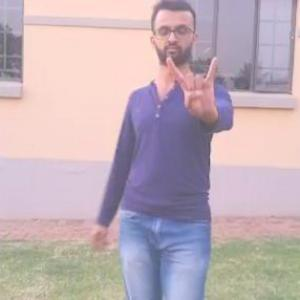takeoff-hand: (162, 47, 228, 128)
